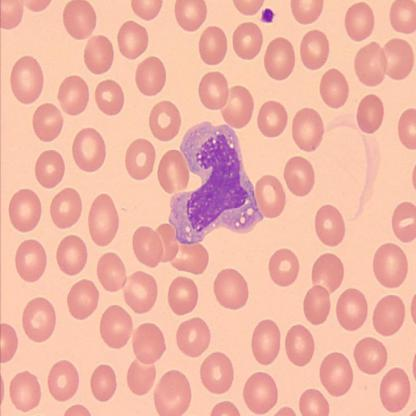Monocyte: (166, 118, 265, 246)
